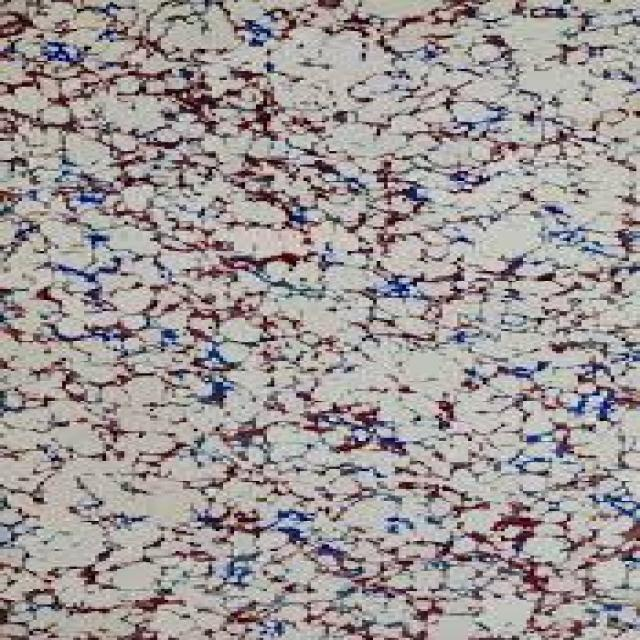Metamorphic: (4, 4, 636, 634)
